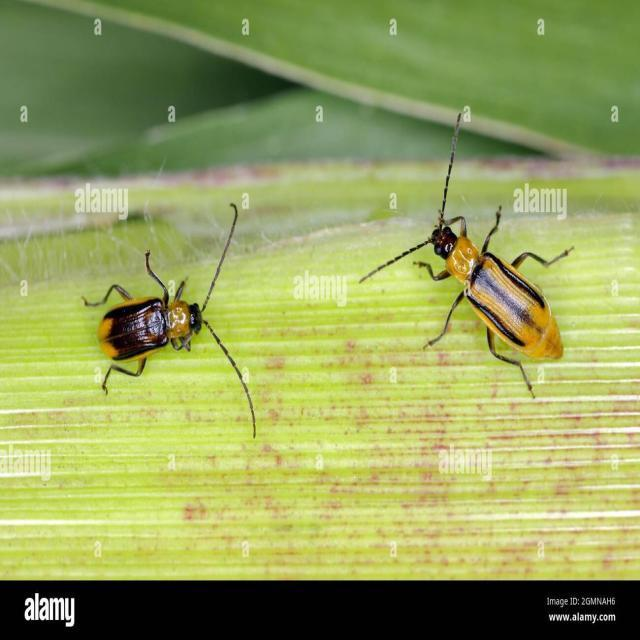trips: (357, 108, 578, 398), (77, 194, 263, 442)
